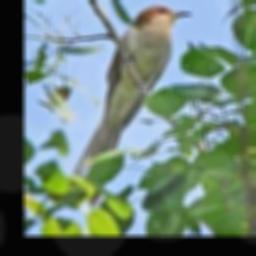Cuckoo: (72, 6, 193, 205)
